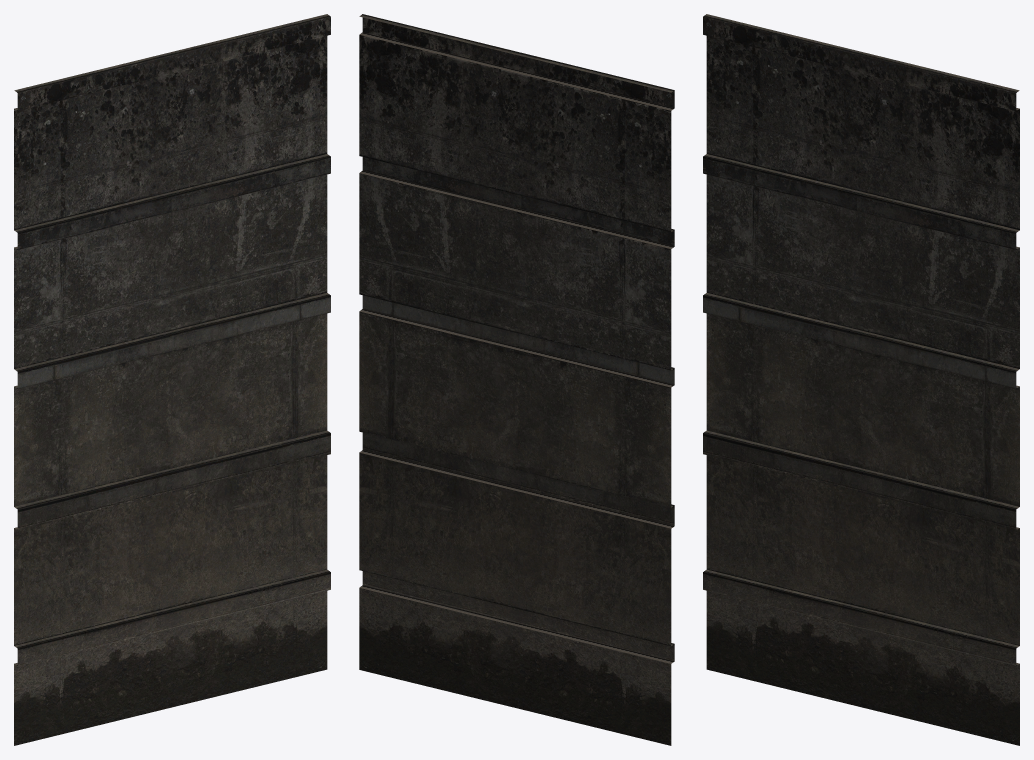
File: tunnel_wall_small.DAE
3 views of the same model, side by side, from view 1: azimuth 30°, elevation 25°; view 2: azimuth 150°, elevation 25°; view 3: azimuth 330°, elevation 25° (orthographic).
Parts seen in each view (by area): view 1: tunnels_wall_small; view 2: tunnels_wall_small; view 3: tunnels_wall_small.
Boxes of the visible parts, left/top/right/bottom form: tunnels_wall_small: left=14, top=14, right=330, bottom=745; tunnels_wall_small: left=359, top=14, right=674, bottom=745; tunnels_wall_small: left=703, top=14, right=1019, bottom=745.
Size of the model in its own units: 2 by 0.039 by 4.
